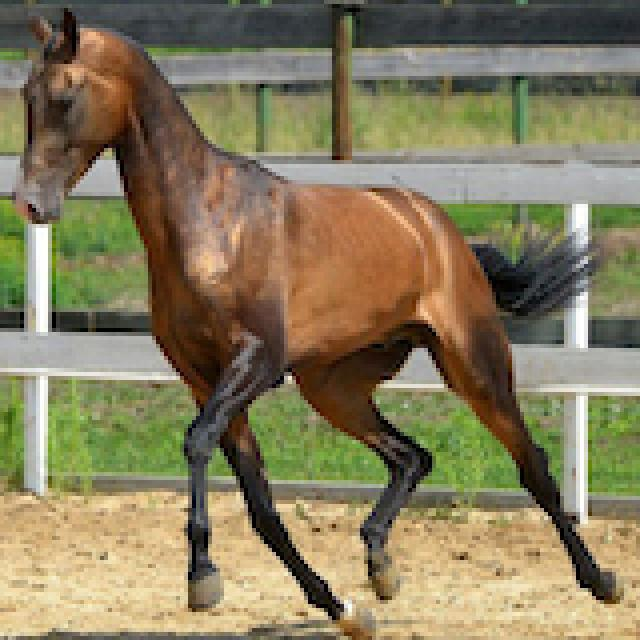Horse: (4, 0, 632, 636)
